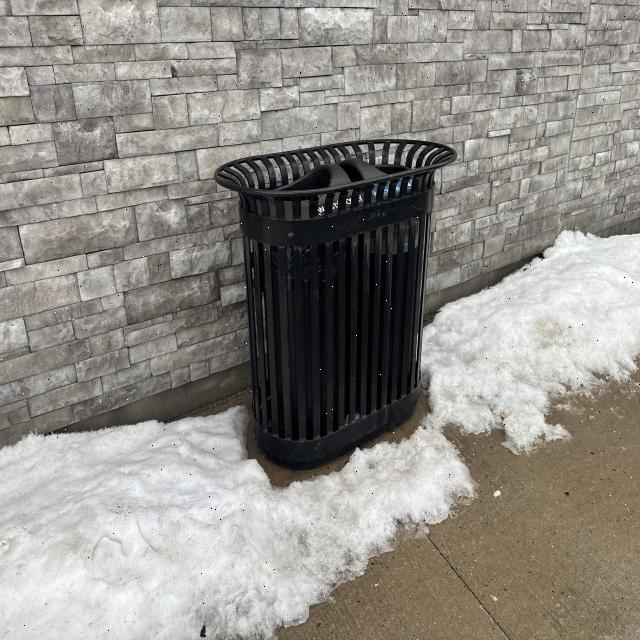Dustbin: (215, 141, 457, 469)
